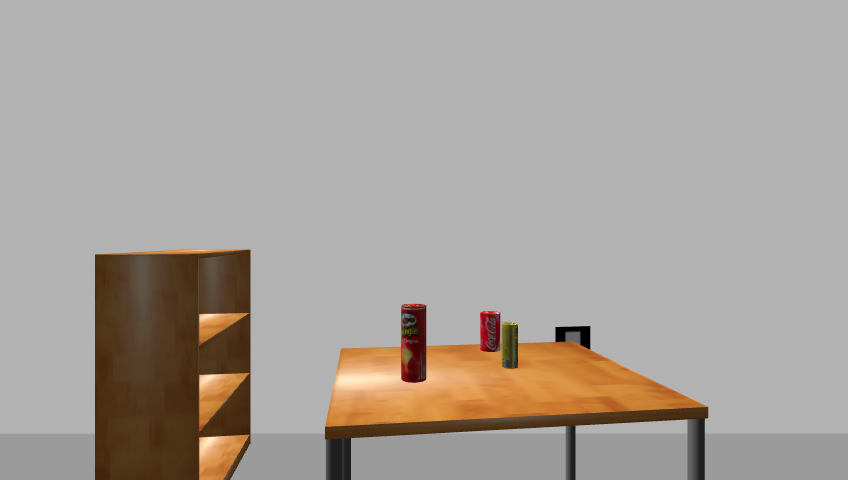aruco marker: (553, 324, 595, 356)
biscuits pack: (502, 322, 521, 370)
bookshelf: (89, 247, 259, 479)
coke can: (478, 310, 501, 353)
dinner table: (318, 339, 716, 480)
pringles can: (398, 303, 428, 385)
